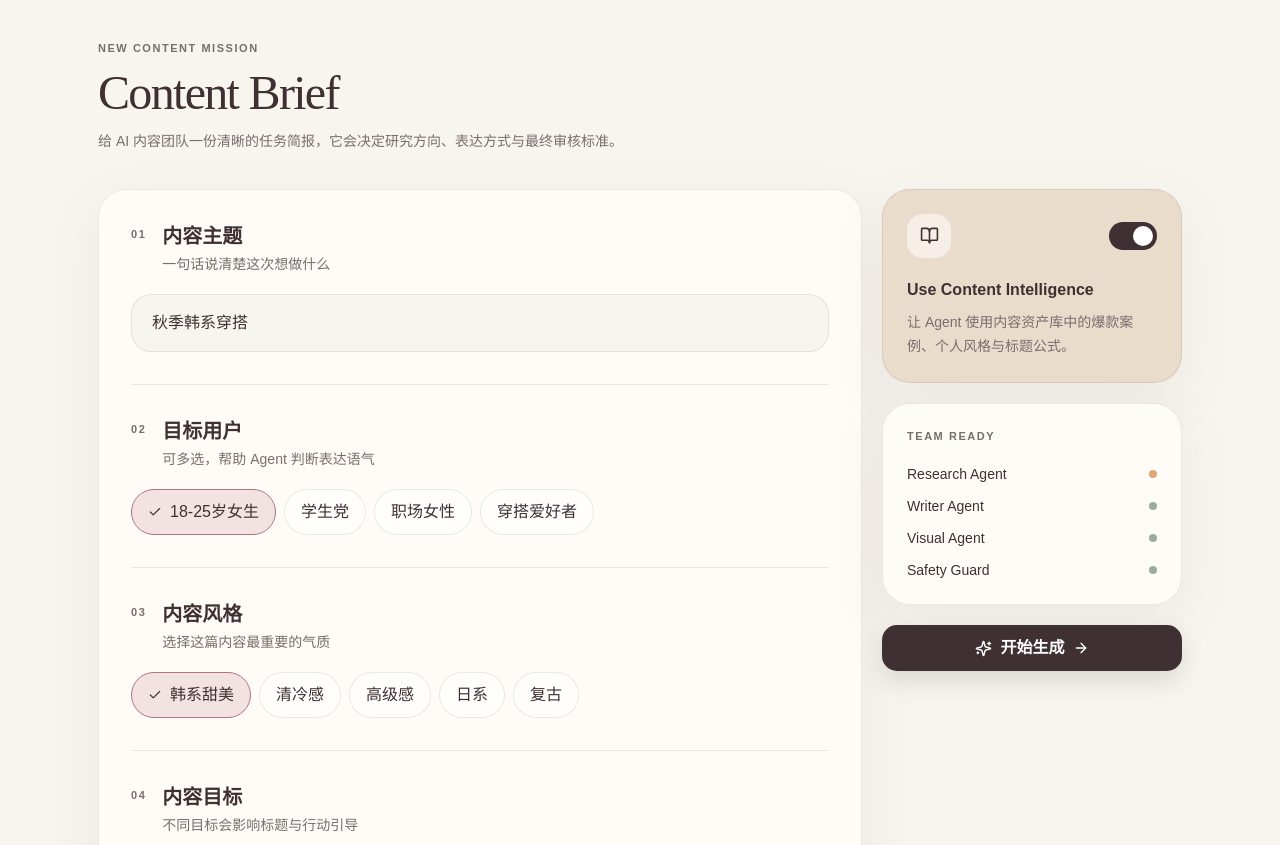
Content Brief › validates a missing topic
The image size is (1280, 845).
Clear the field named "内容主题" at (480, 322), box [131,294,829,352]
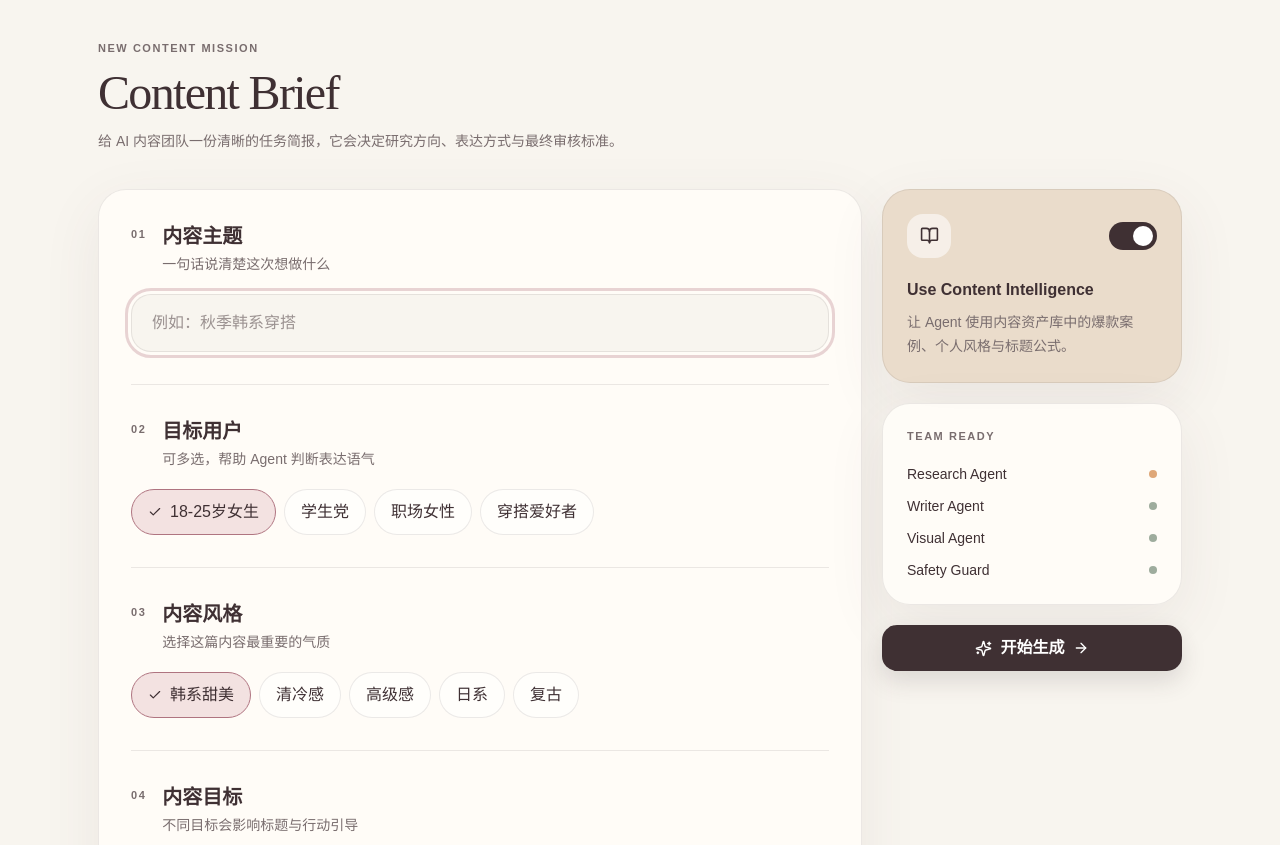
Click the button "开始生成" at (1032, 648), box [882,625,1182,671]
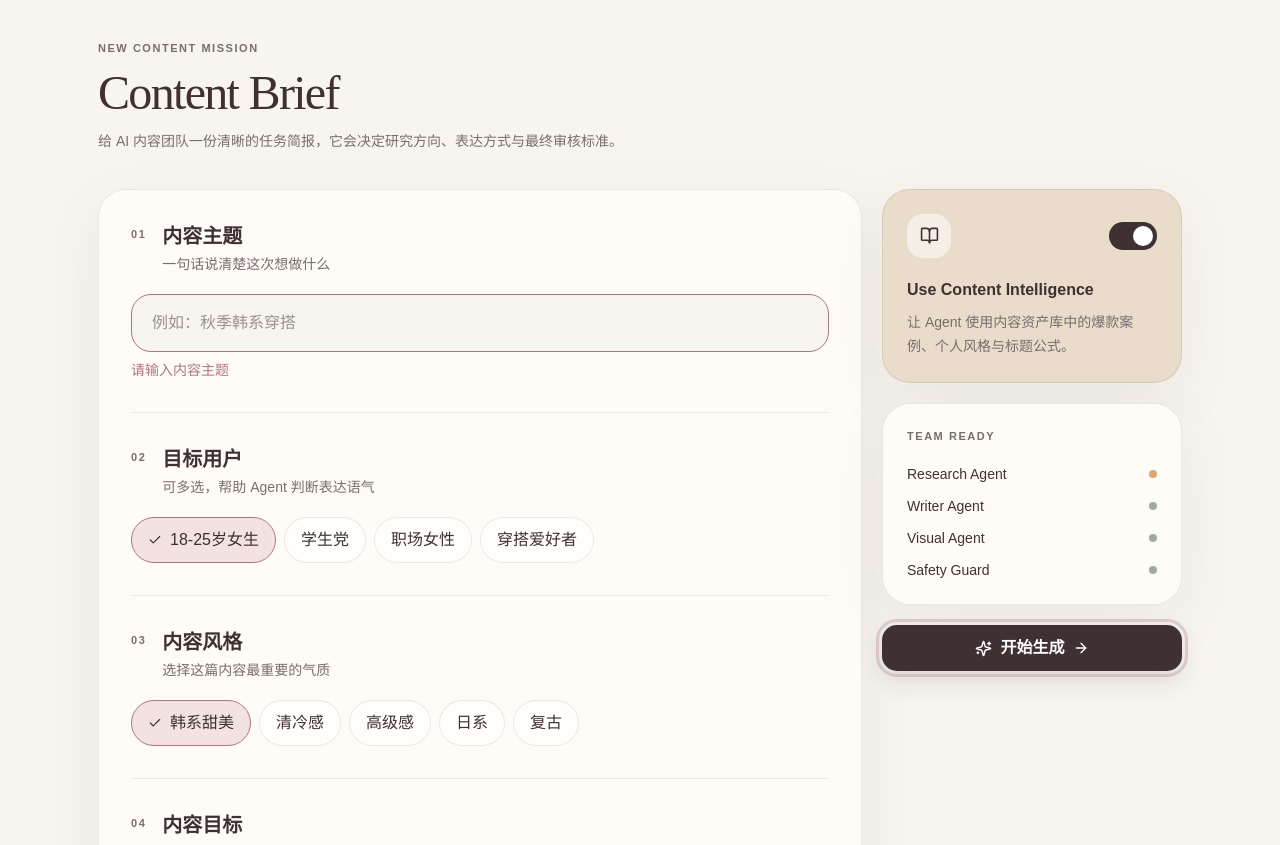
Expected: the text "请输入内容主题" is shown, [131,362,229,378]
